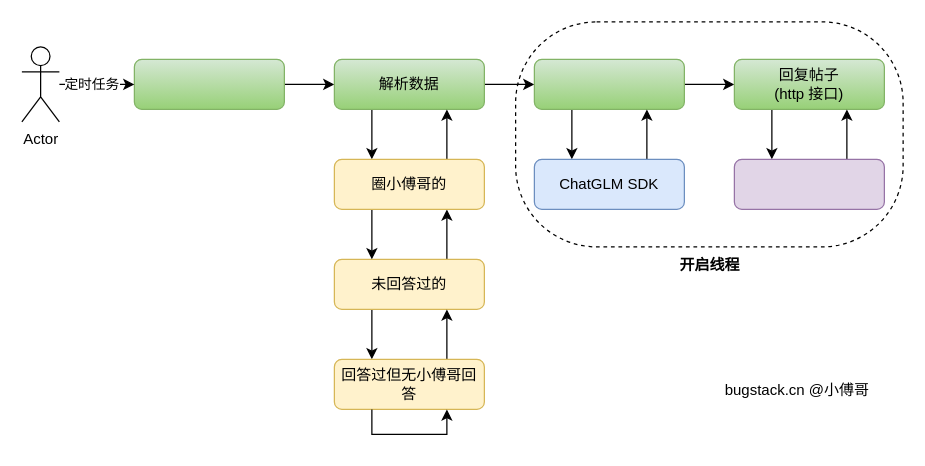
The diagram is 925 pixels wide and 466 high, and some of its shapes have lost their labels. The shapes that lost their labels are listed below. From the top down, each one's centre as x and y in pixels, then its label:
At point 208,83: "扫描帖子 (http 接口)".
At point 608,83: "OpenAi".
At point 808,183: "线程标记📌 (缓存)".
